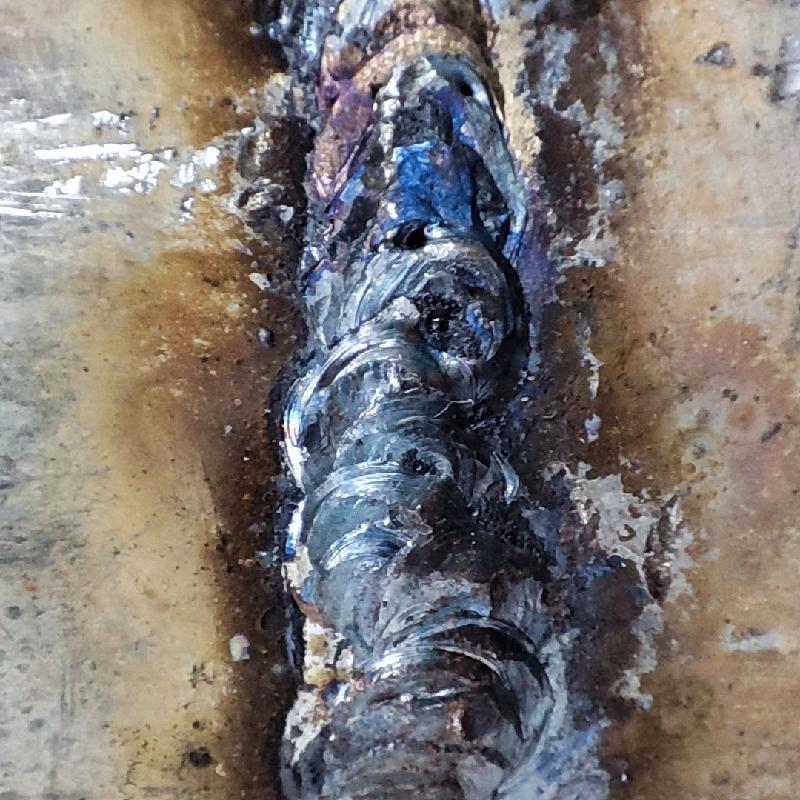Surface_pores: (383, 207, 449, 266), (440, 55, 498, 116), (418, 293, 468, 352)
